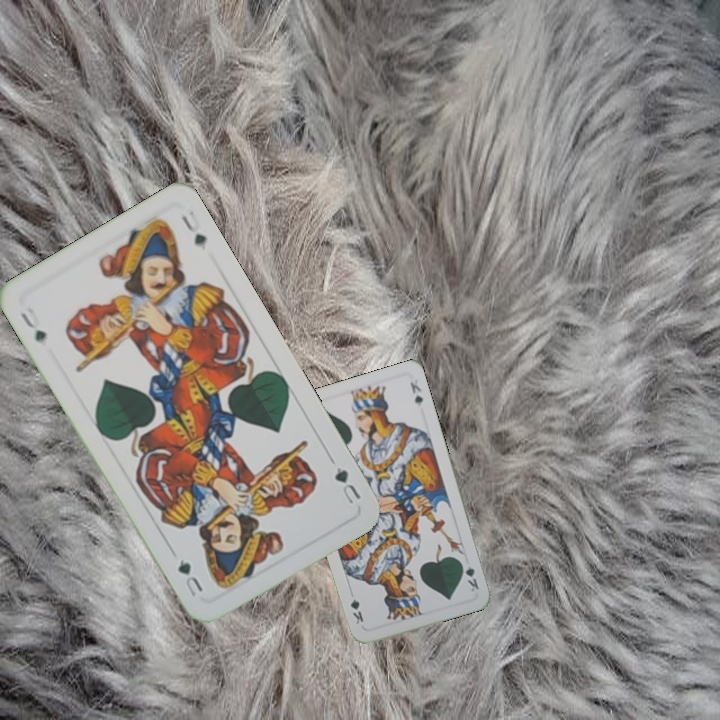GK: (457, 557, 481, 594)
GU: (330, 463, 364, 507), (17, 308, 50, 346)
